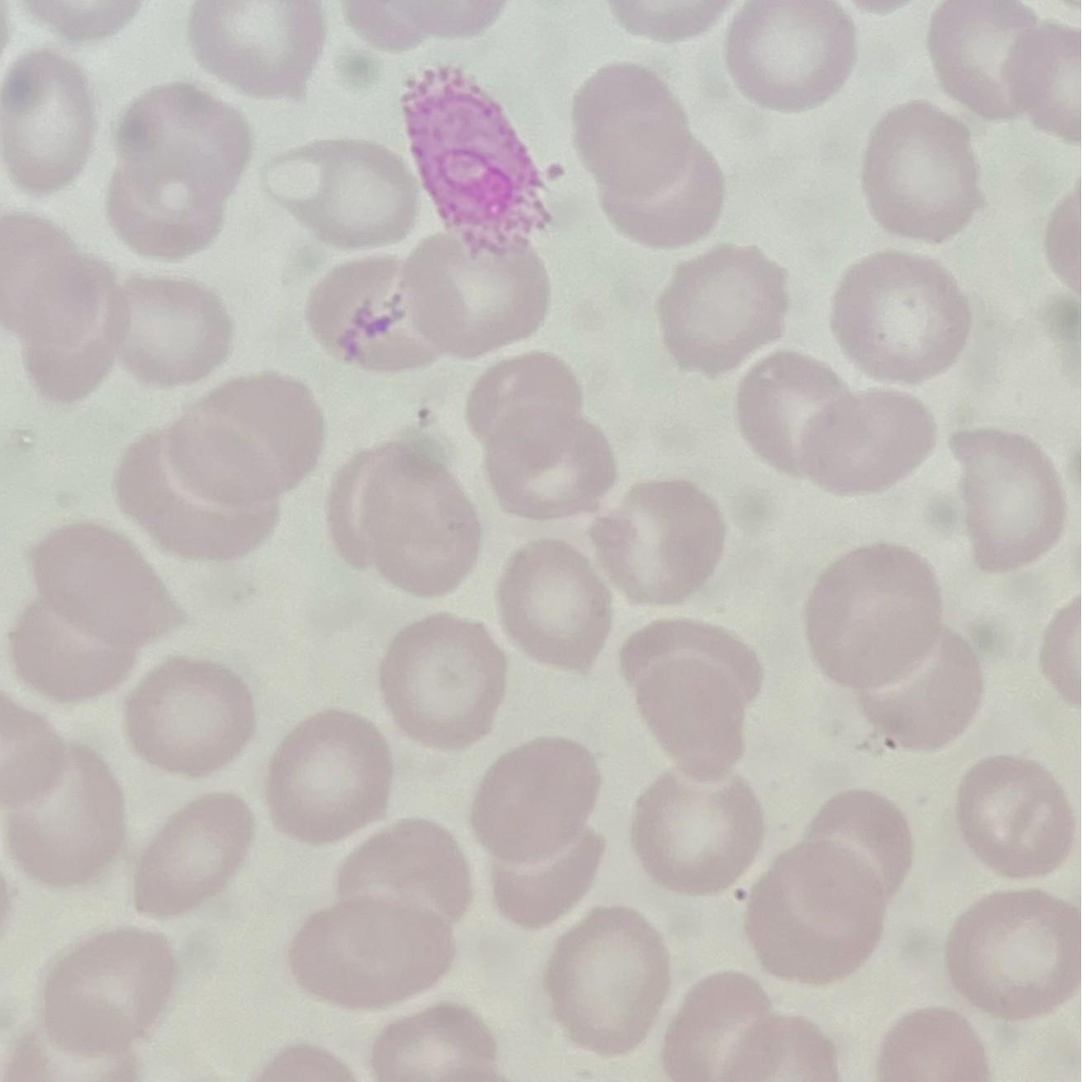Infected: (399, 64, 566, 256)
Uninfected: (116, 418, 283, 561), (161, 372, 323, 508), (804, 540, 943, 690), (743, 843, 888, 980), (403, 228, 551, 361), (830, 248, 972, 383), (289, 897, 455, 1012), (547, 905, 672, 1053), (258, 137, 420, 251), (380, 612, 510, 753), (944, 888, 1082, 1020), (946, 424, 1068, 573), (32, 523, 181, 645), (0, 744, 126, 888), (657, 244, 791, 378), (39, 928, 177, 1058), (630, 760, 764, 893), (467, 733, 599, 867), (118, 85, 250, 219), (361, 455, 482, 597), (339, 814, 478, 936), (861, 102, 981, 242), (268, 711, 391, 845), (308, 254, 439, 379), (126, 653, 255, 779), (132, 793, 260, 918), (857, 626, 984, 751), (568, 58, 688, 188), (597, 482, 721, 606), (597, 126, 721, 247), (958, 756, 1078, 878), (735, 351, 857, 470), (725, 0, 858, 109), (661, 967, 787, 1082), (797, 391, 936, 495), (101, 271, 224, 388), (485, 405, 612, 518), (929, 0, 1050, 118), (186, 0, 323, 104), (630, 649, 741, 777), (0, 50, 95, 194), (502, 541, 610, 667), (797, 789, 916, 893), (374, 1000, 496, 1082)
